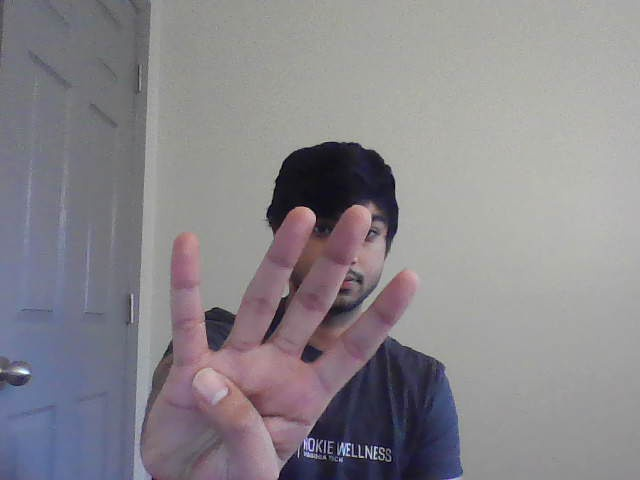four: (138, 200, 425, 480)
